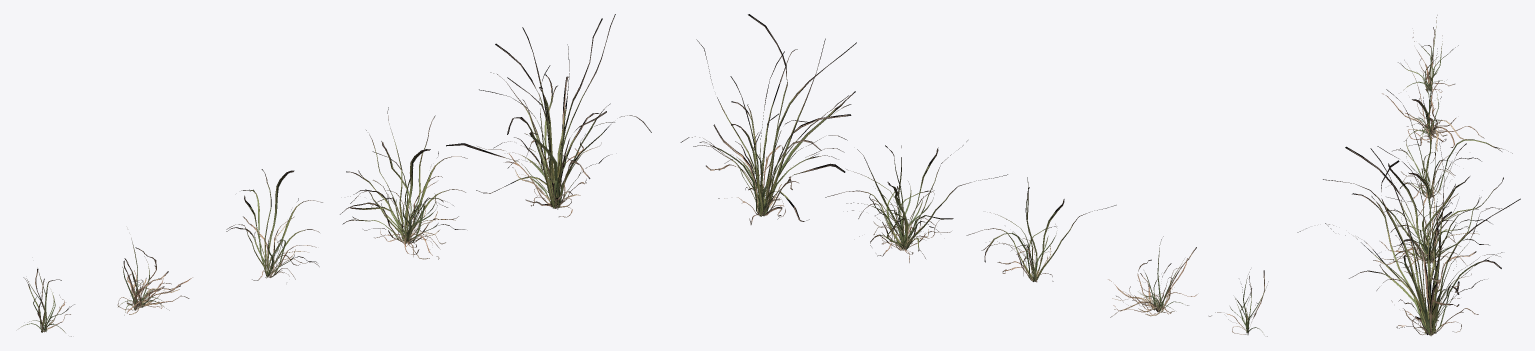
Rendered from grass_medium_02.glb.
The picture shows the model from 3 angles, left to right: view 1: azimuth 30°, elevation 25°; view 2: azimuth 150°, elevation 25°; view 3: azimuth 270°, elevation 25°; orthographic projection. The views are drawn at different scales.
Visible parts, largest first — view 1: grass_medium_02_e, grass_medium_02_d, grass_medium_02_c, grass_medium_02_b, grass_medium_02_a; view 2: grass_medium_02_e, grass_medium_02_d, grass_medium_02_c, grass_medium_02_b, grass_medium_02_a; view 3: grass_medium_02_e, grass_medium_02_d, grass_medium_02_c, grass_medium_02_b, grass_medium_02_a.
Part boxes in pixels (x1=…): grass_medium_02_e: x1=446, y1=14, x2=651, y2=217; grass_medium_02_d: x1=340, y1=107, x2=467, y2=259; grass_medium_02_c: x1=226, y1=169, x2=322, y2=280; grass_medium_02_b: x1=117, y1=238, x2=192, y2=315; grass_medium_02_a: x1=19, y1=268, x2=74, y2=336; grass_medium_02_e: x1=680, y1=14, x2=856, y2=224; grass_medium_02_d: x1=825, y1=140, x2=1007, y2=262; grass_medium_02_c: x1=966, y1=177, x2=1116, y2=282; grass_medium_02_b: x1=1108, y1=236, x2=1197, y2=317; grass_medium_02_a: x1=1209, y1=269, x2=1268, y2=336; grass_medium_02_e: x1=1297, y1=142, x2=1520, y2=335; grass_medium_02_d: x1=1323, y1=143, x2=1503, y2=274; grass_medium_02_c: x1=1386, y1=89, x2=1512, y2=215; grass_medium_02_b: x1=1382, y1=48, x2=1484, y2=151; grass_medium_02_a: x1=1398, y1=15, x2=1458, y2=92.
Bounding box in the file's own units: 1.31 × 0.4053 × 0.4332.
Materials: 1 (1 with a texture image).
